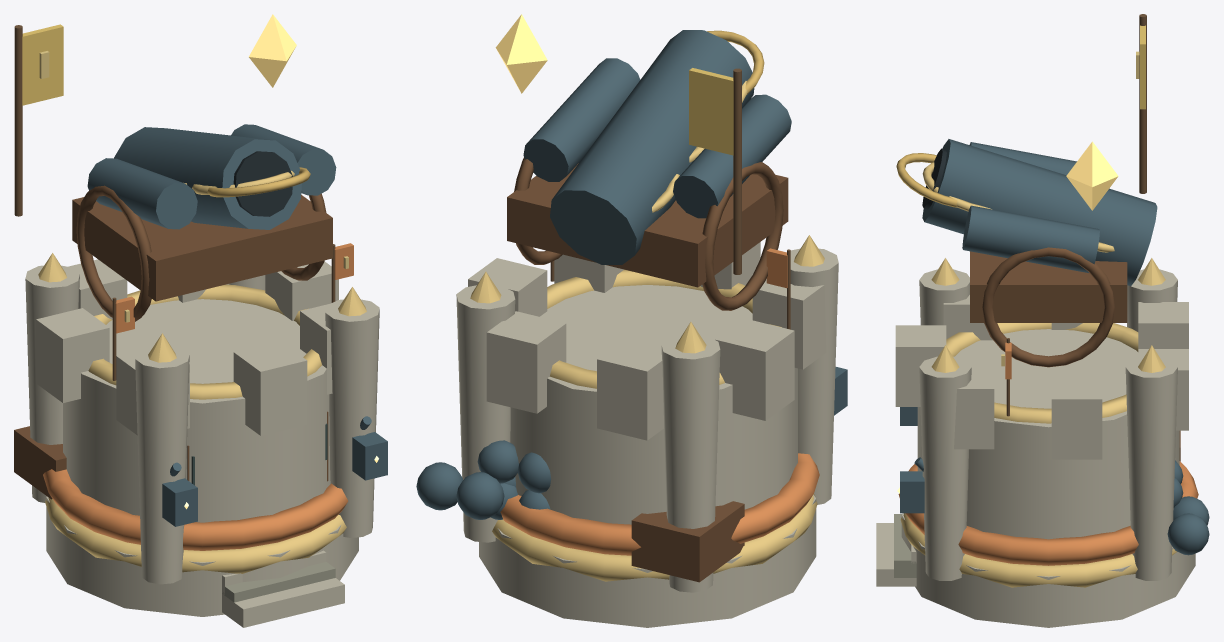
Rendered from tower-cannon-3-1.glb.
3 renders of one model, left to right at view 1: azimuth 30°, elevation 25°; view 2: azimuth 150°, elevation 25°; view 3: azimuth 270°, elevation 25°, orthographic. The views are drawn at different scales.
Visible parts, largest first — view 1: Foundation, Turret, cannon-L3-1; view 2: Foundation, Turret, cannon-L3-1; view 3: Foundation, Turret, cannon-L3-1.
Part boxes in pixels (x1,y1,x2,y2): Foundation: (14, 24, 387, 627); Turret: (72, 14, 336, 321); cannon-L3-1: (46, 496, 358, 616); Foundation: (416, 68, 847, 592); Turret: (495, 14, 791, 310); cannon-L3-1: (479, 494, 816, 627); Foundation: (876, 14, 1209, 587); Turret: (896, 139, 1157, 367); cannon-L3-1: (901, 513, 1195, 627).
Size of the model in its own units: 1.72 by 3.09 by 1.91.
